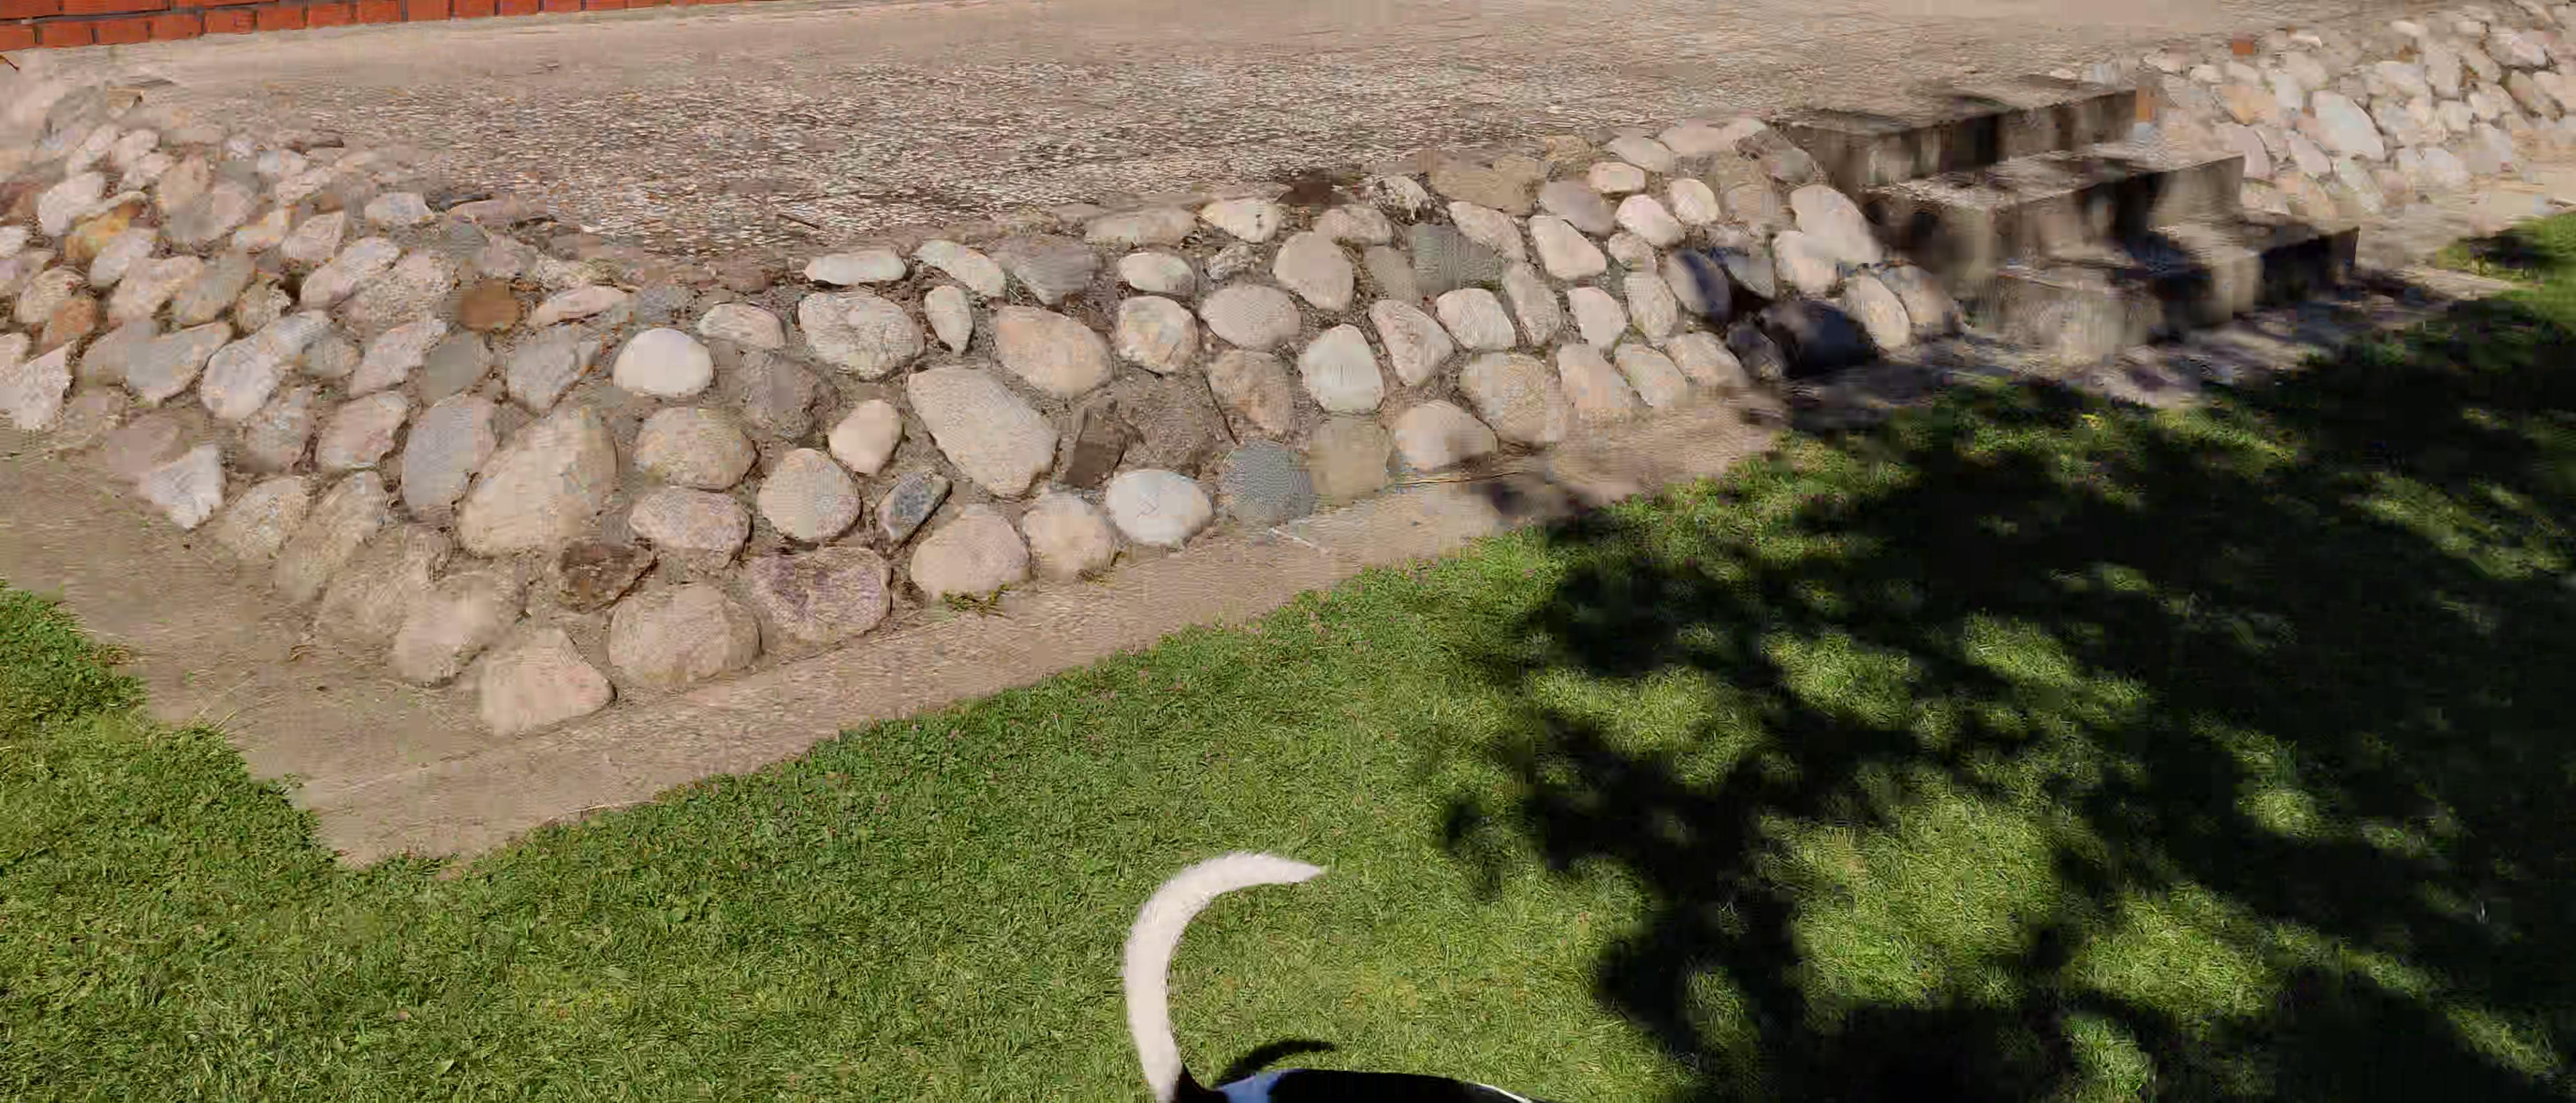Dog: (1107, 819, 1564, 1103)
